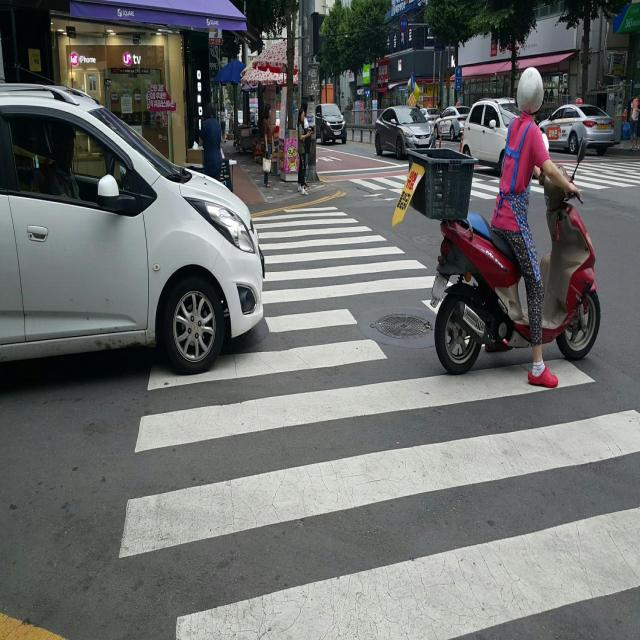횡단보도: (116, 205, 640, 640), (345, 157, 640, 199)
